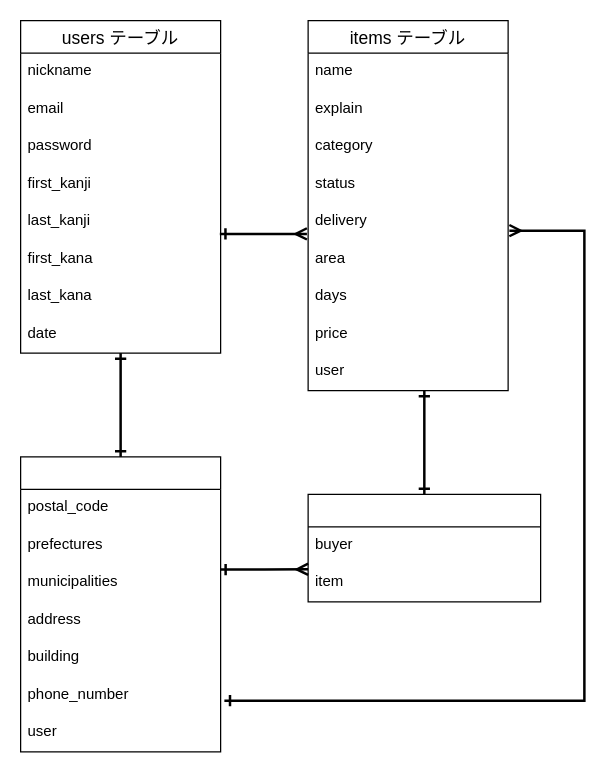
Some shapes in this 605 by 773 pixel diagram are drawn without their labels. Each missing label, with the box of its shape:
buyer_items テーブル: (307, 493, 541, 602)
buyers テーブル: (19, 456, 221, 752)
